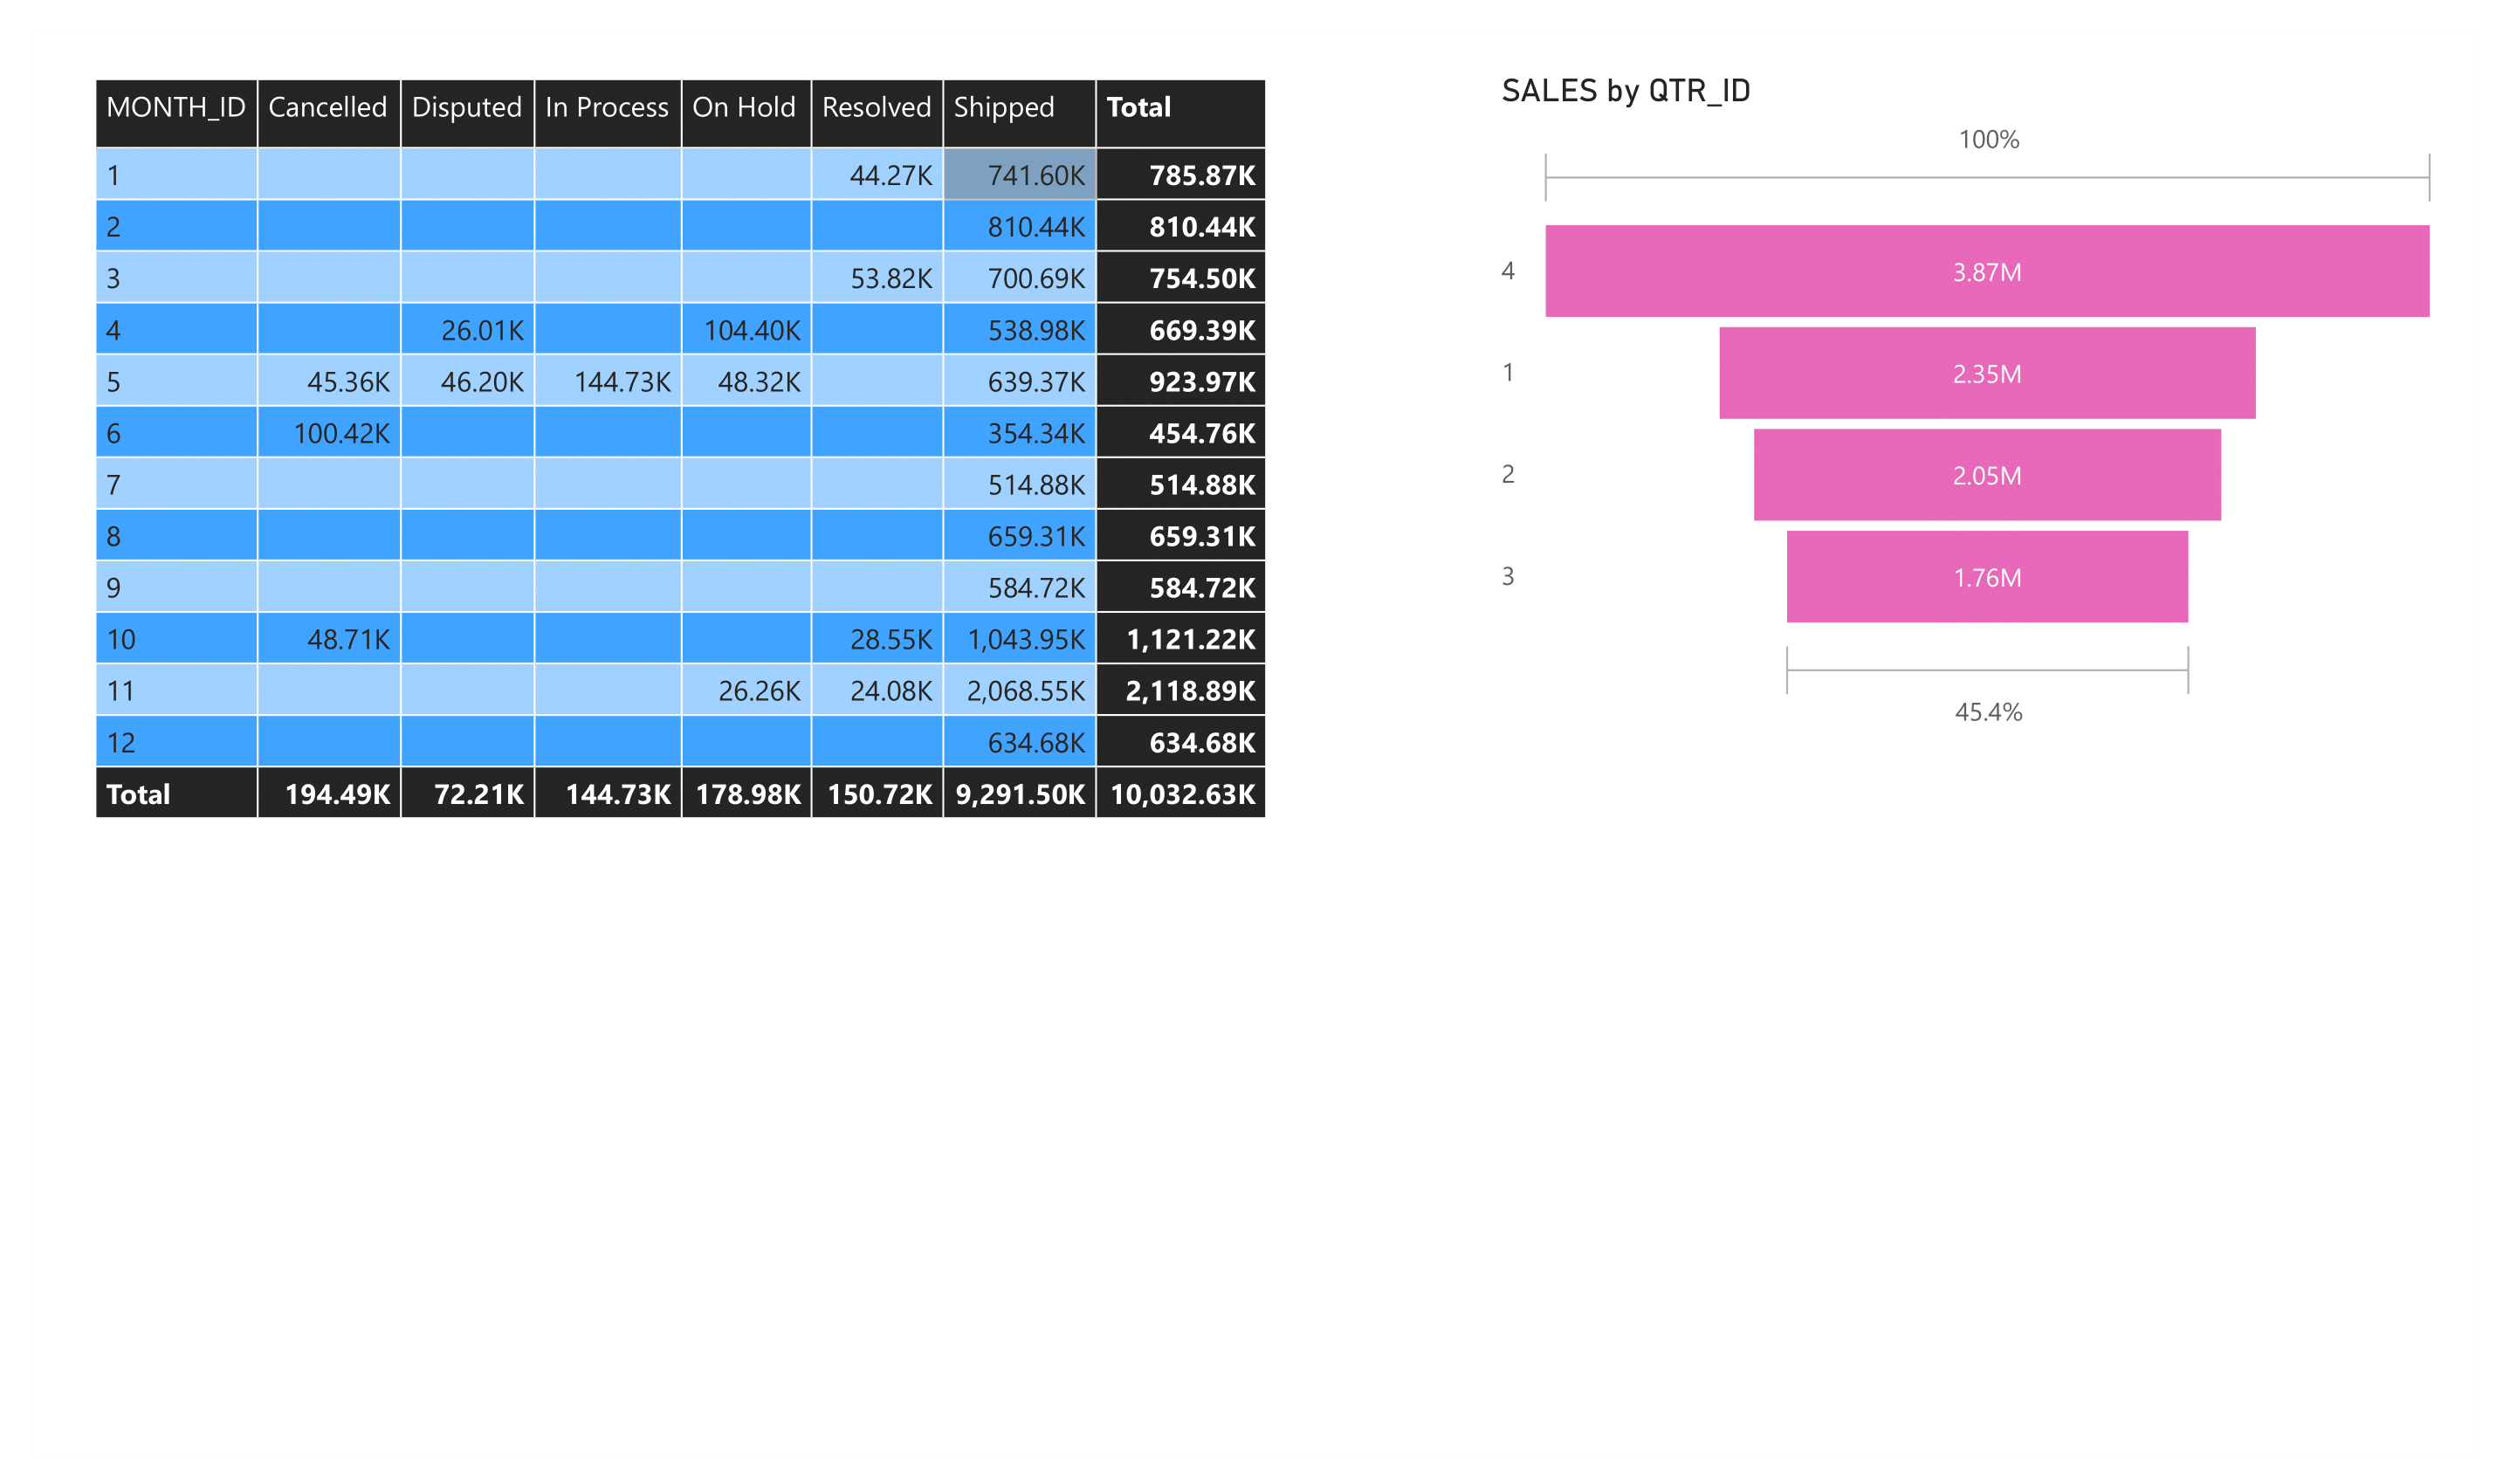

What the dashboard file says about the page in this screenshot:
{"tool":"powerbi","page":{"name":"Score card","canvas":[1280,720],"ordinal":3},"visuals":[{"type":"pivotTable","fields":{"Columns":["ORDER DETAILS.STATUS"],"Values":["Sum(ORDER DETAILS.SALES)"],"Rows":["ORDER DETAILS.MONTH_ID"]},"box":[30.2,8.4,708.9,435.1],"z":0},{"type":"funnel","fields":{"Y":["Sum(ORDER DETAILS.SALES)"],"Category":["ORDER DETAILS.QTR_ID"]},"box":[766,8.4,500.6,351.1],"z":1000}]}

Visuals, with their boxes on the page's 1280x720 design canvas (x1, y1, x2, y2). These are canvas units, not pixel positions in the 2503x1484 screenshot, which may show the page scaled, cropped or inside an application window:
pivotTable - ORDER DETAILS.STATUS x Sum(ORDER DETAILS.SALES): select_region(30, 8, 739, 444)
funnel - Sum(ORDER DETAILS.SALES) x ORDER DETAILS.QTR_ID: select_region(766, 8, 1267, 360)
